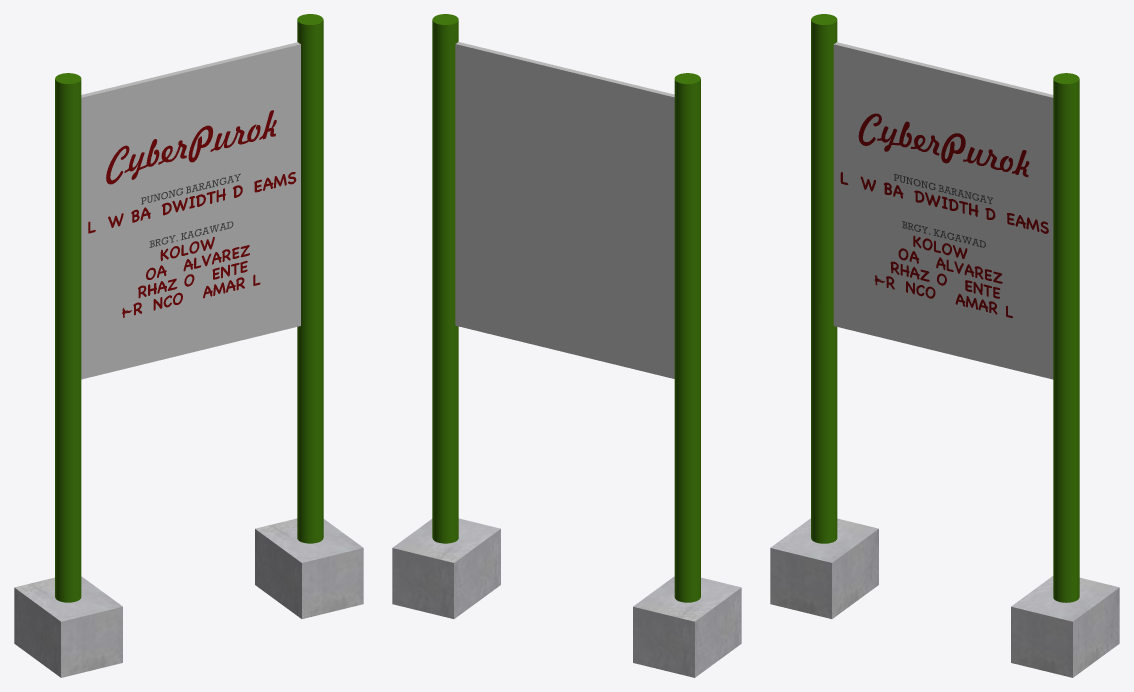
Rendered from standee.glb.
3 views of the same model, side by side, from view 1: azimuth 30°, elevation 25°; view 2: azimuth 150°, elevation 25°; view 3: azimuth 330°, elevation 25° (orthographic).
Visible parts, largest first — view 1: SketchUpModel_default, *1, [Polished Concrete New], *3, *4; view 2: SketchUpModel_default, *1, [Polished Concrete New]; view 3: SketchUpModel_default, *1, [Polished Concrete New], *3, *4.
Part boxes in pixels (left/top/right/bottom): SketchUpModel_default: left=81, top=42, right=300, bottom=379; *1: left=55, top=14, right=323, bottom=602; [Polished Concrete New]: left=14, top=518, right=363, bottom=677; *3: left=88, top=110, right=296, bottom=317; *4: left=141, top=173, right=240, bottom=247; SketchUpModel_default: left=455, top=42, right=674, bottom=378; *1: left=432, top=14, right=700, bottom=602; [Polished Concrete New]: left=392, top=518, right=741, bottom=677; SketchUpModel_default: left=833, top=42, right=1053, bottom=379; *1: left=811, top=14, right=1079, bottom=602; [Polished Concrete New]: left=770, top=518, right=1119, bottom=677; *3: left=840, top=113, right=1048, bottom=317; *4: left=894, top=173, right=993, bottom=247.
Size of the model in its own units: 0.9295 by 1.69 by 0.2496.
5 materials, 1 textured.
